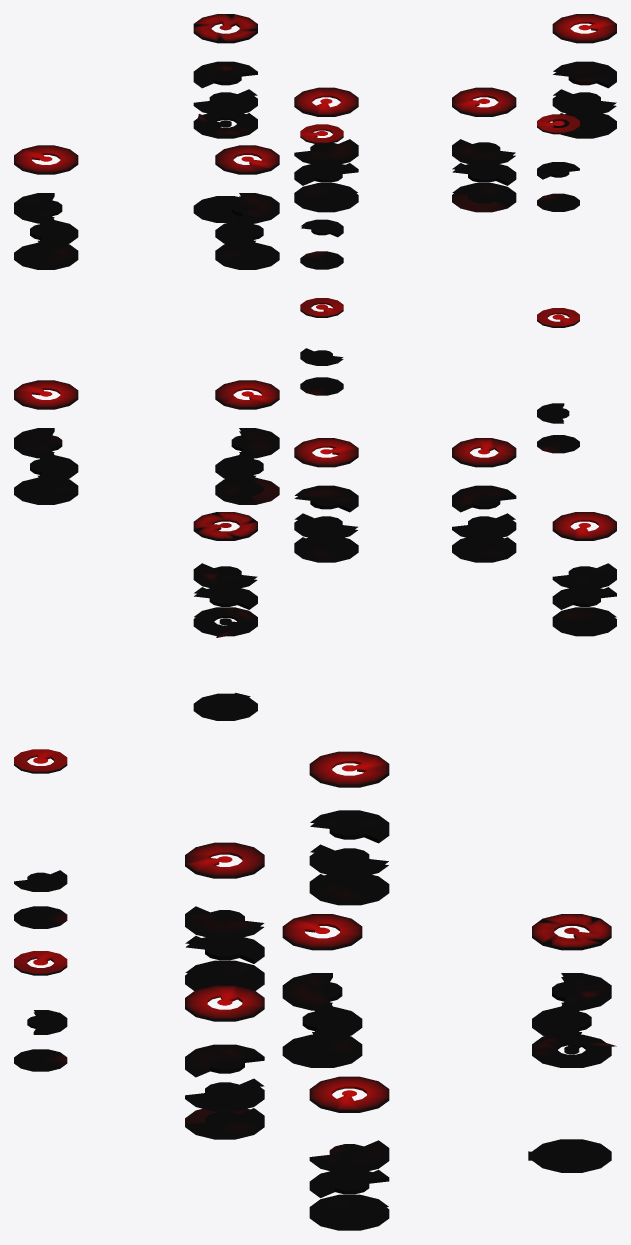
The model's file is TowersOuter_Floors_export.obj.
3 views of the same model, one above another, from view 1: azimuth 30°, elevation 25°; view 2: azimuth 150°, elevation 25°; view 3: azimuth 270°, elevation 25° (orthographic). The views are drawn at different scales.
Visible parts, largest first — view 1: TowersOuter_Floors; view 2: TowersOuter_Floors; view 3: TowersOuter_Floors.
Part boxes in pixels (bbox=[...]): TowersOuter_Floors: bbox=[14, 14, 616, 269]; TowersOuter_Floors: bbox=[14, 298, 616, 720]; TowersOuter_Floors: bbox=[14, 749, 616, 1230].
Size of the model in its own units: 78.36 by 33 by 55.64.
